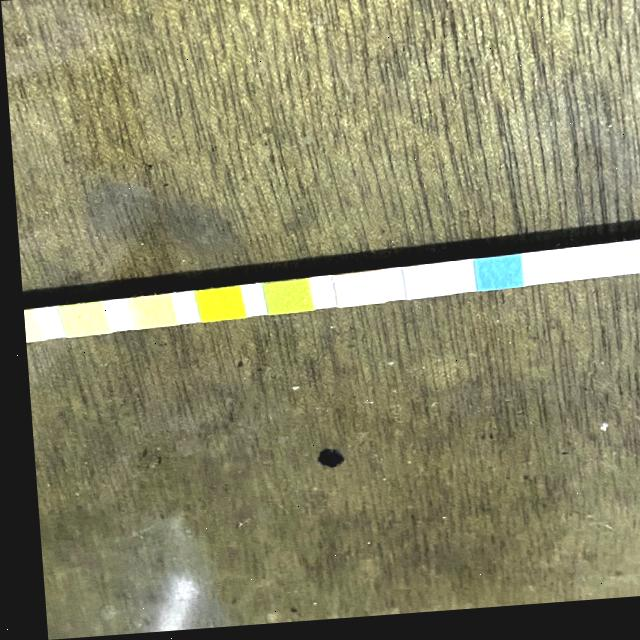Bilirubin: (399, 271, 448, 303)
Blood: (193, 290, 238, 322)
Glucose: (470, 263, 517, 295)
Ketone: (329, 278, 379, 309)
Protein: (59, 304, 103, 335)
SpGravity: (259, 283, 307, 316)
Urobilinogen: (18, 310, 34, 341)
pH: (124, 297, 169, 327)
